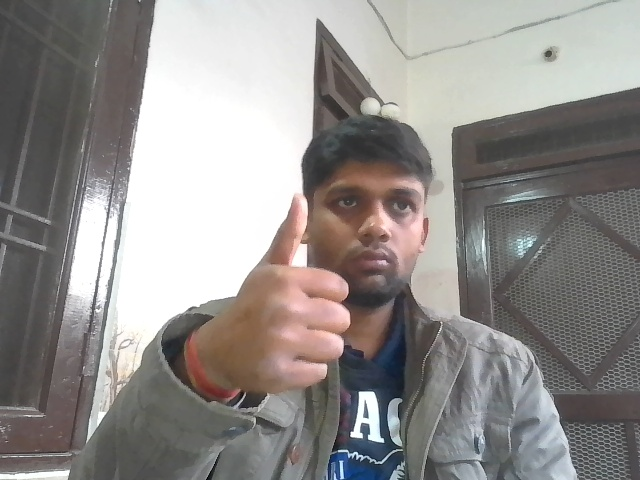BestOfLuck: (239, 193, 355, 395)
